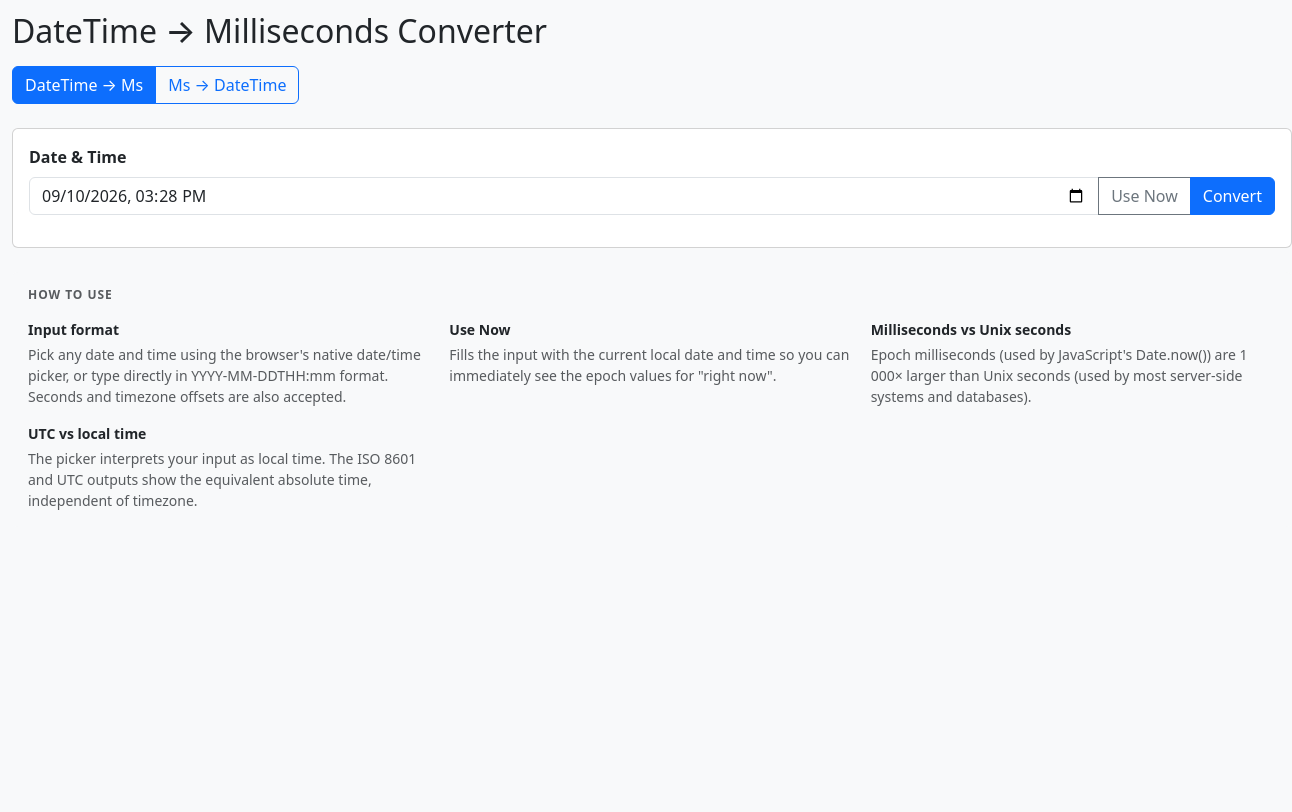
Test case: MillisecondConverter › converts a known UTC datetime to epoch ms
Step 1. Replace the text in the field named "DateTime input" with "1970-01-01T00:00" → (564, 196), box 29,177 -> 1099,215
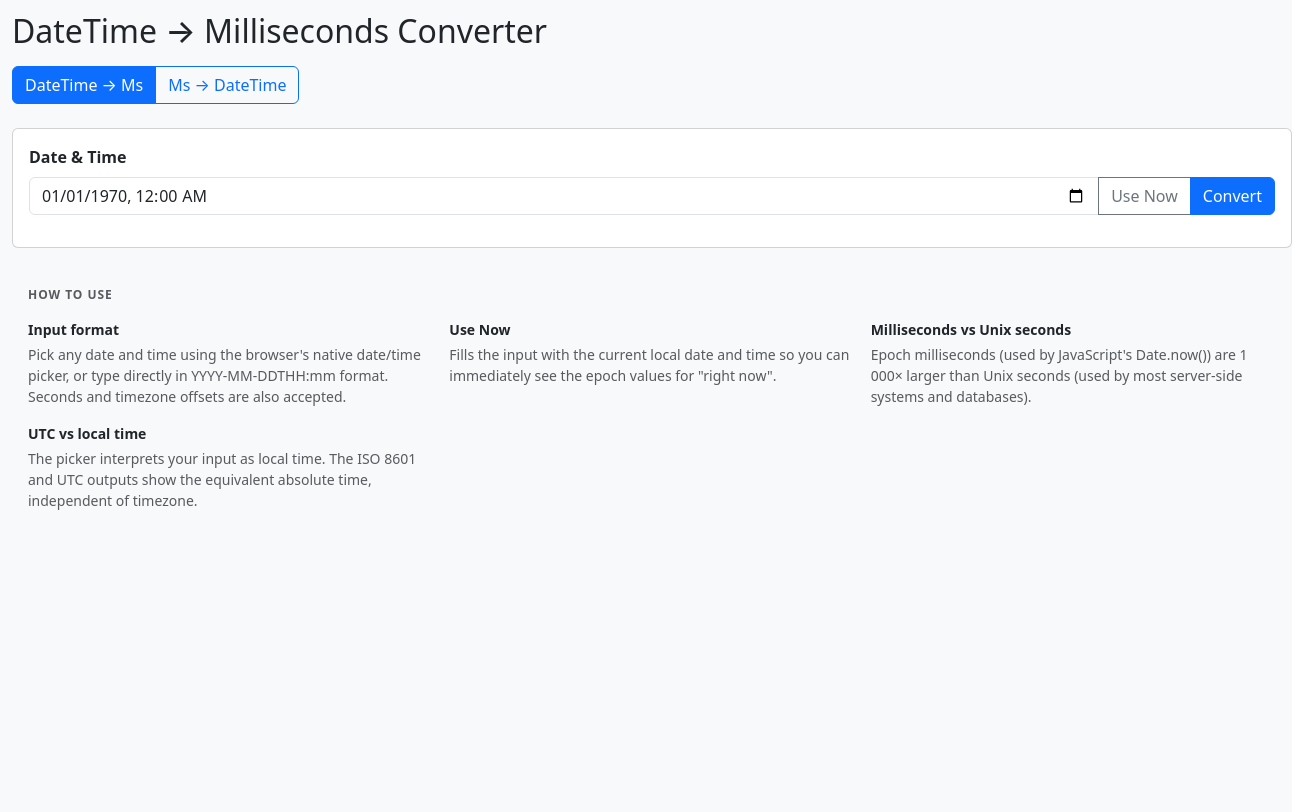
Step 2. Click the button "Convert" → (1232, 196), box 1190,177 -> 1275,215
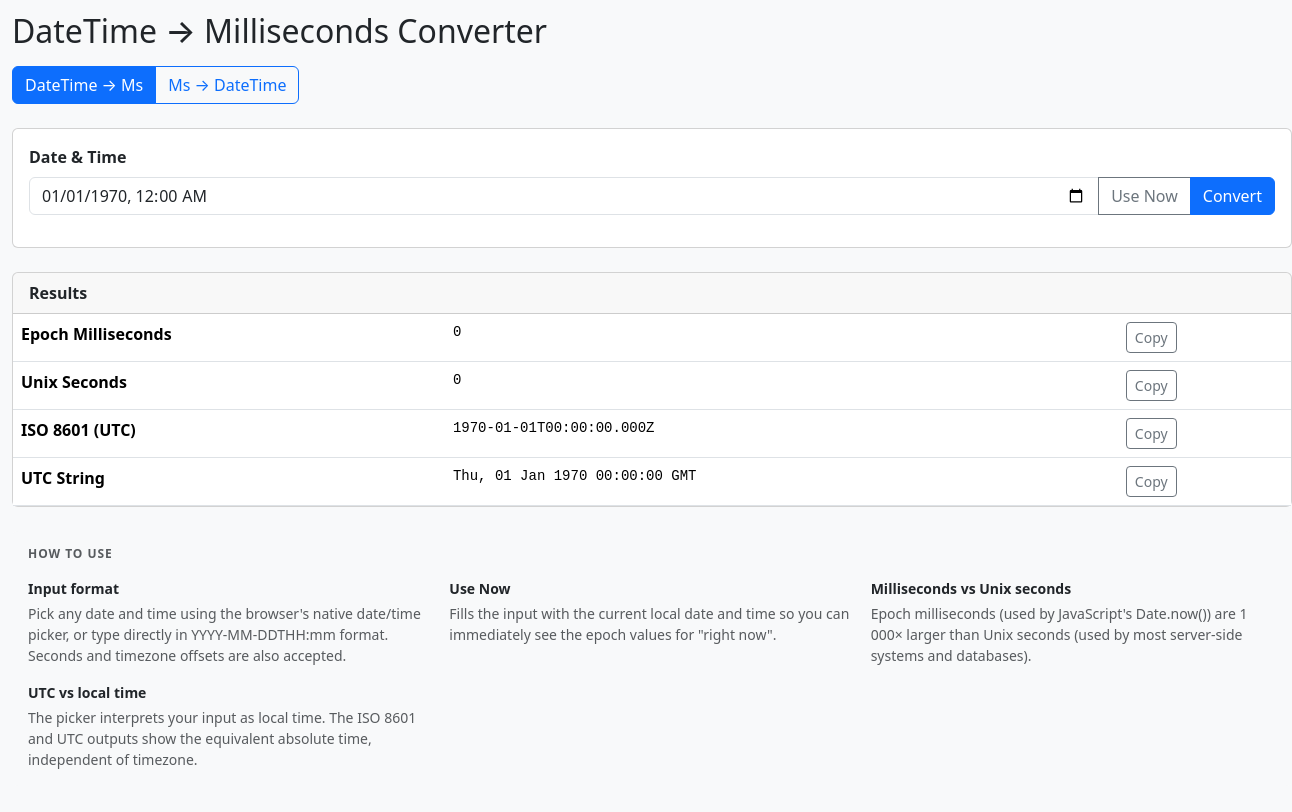
Expected: the text "Epoch Milliseconds" is shown, 13,314 -> 445,362
Expected: the text "Unix Seconds" is shown, 13,362 -> 445,410
